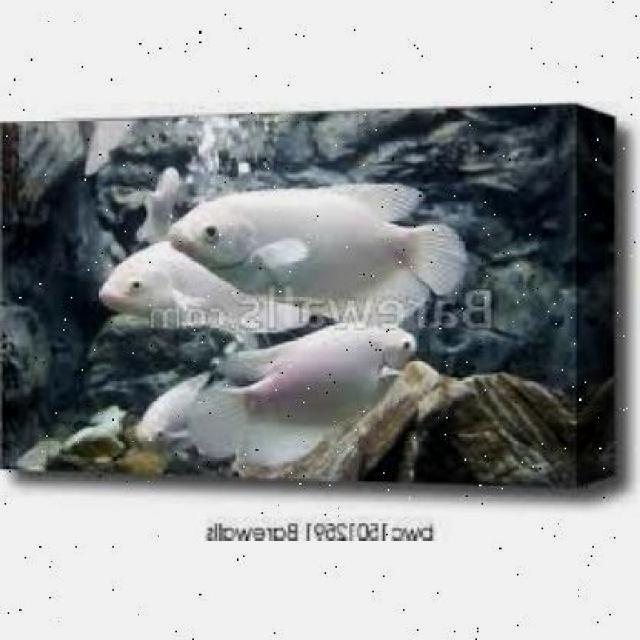gurame: (178, 176, 466, 322), (196, 316, 422, 472)
